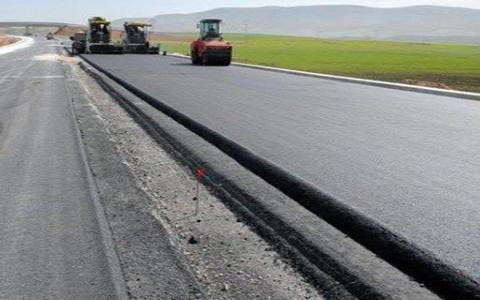Proper road: (312, 88, 469, 252), (190, 69, 351, 183)
